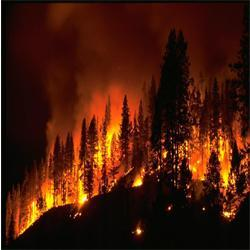fire: (189, 144, 232, 183), (103, 118, 118, 155), (129, 174, 146, 188), (79, 191, 90, 206), (45, 191, 56, 204)
